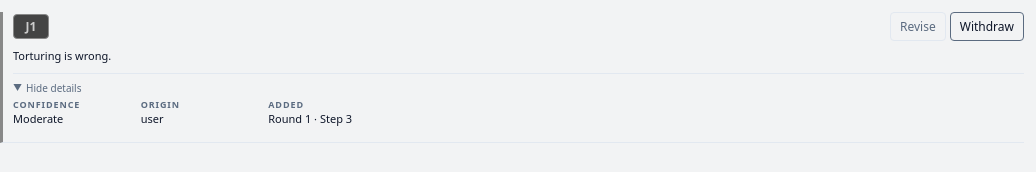
it: an element card's details › hides them on a press, leaving the claim and the buttons
What coordinates should you click on to do the following:
click the button "▼ Hide details"
I would click on:
 (47, 88)
Its box is [13,78,82,98].
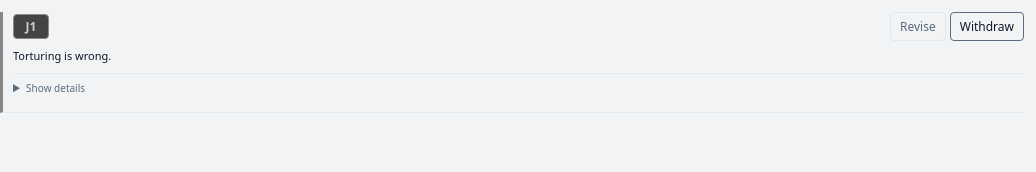
Check: the text "Torturing is wrong." is shown, box [13,48,111,63]
Check: the button "▼ Show details" is collapsed, box [13,78,85,98]
Check: the button "▼ Show details" is shown, box [13,78,85,98]
